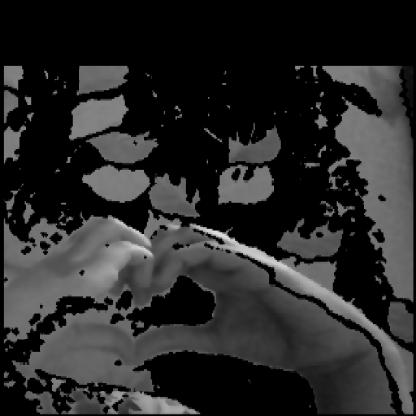heart: (30, 213, 290, 383)
